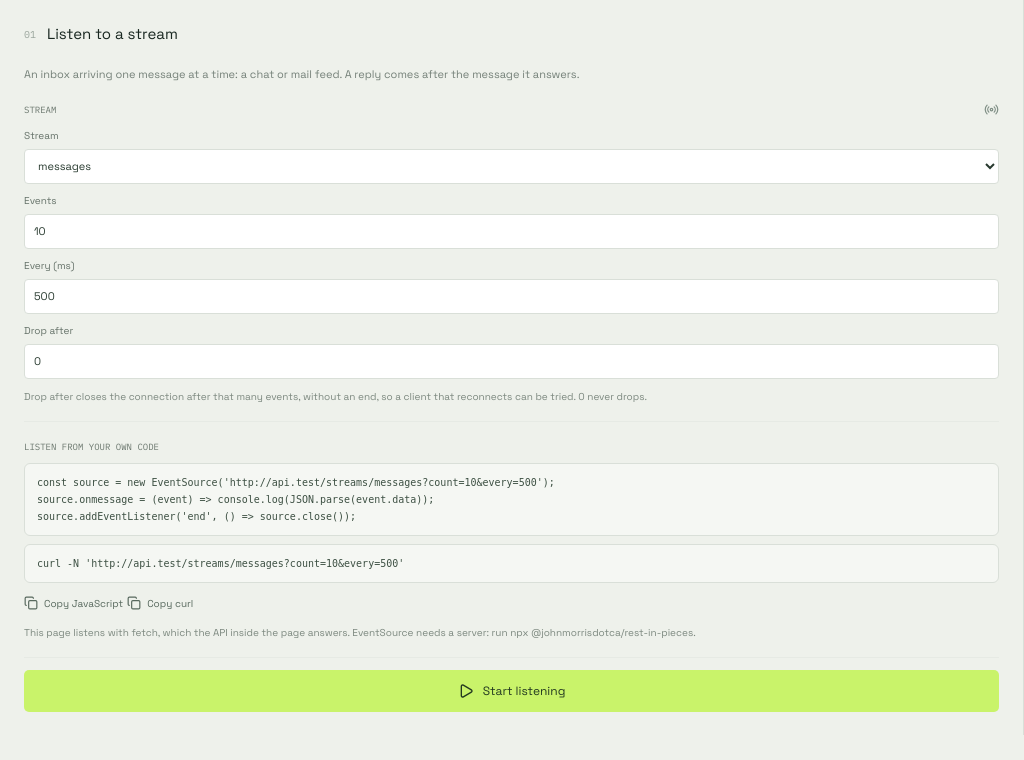
Test: the Streams tab › shows the events as they arrive, and says it finished at the end event
What coordinates should you click on to do the following:
click the button with test id "stream-start"
I would click on:
 (512, 691)
Its box is top-left (24, 670), bottom-right (999, 712).
(page scrolled)
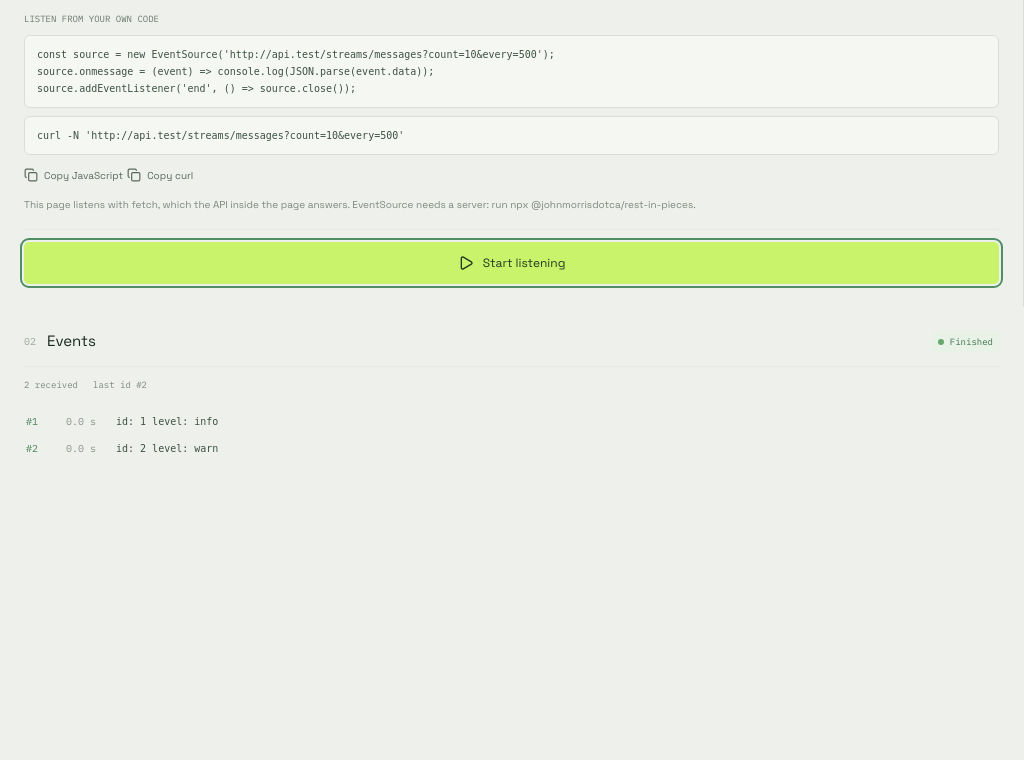
Expected: the number of list items is 2, top-left (26, 409), bottom-right (998, 436); top-left (26, 436), bottom-right (998, 463)
Expected: the list item "#2 0.0 s id: 2 level: warn" is shown, top-left (26, 436), bottom-right (998, 463)
Expected: the text with test id "stream-count-seen" reads "2 received", top-left (24, 378), bottom-right (78, 390)
